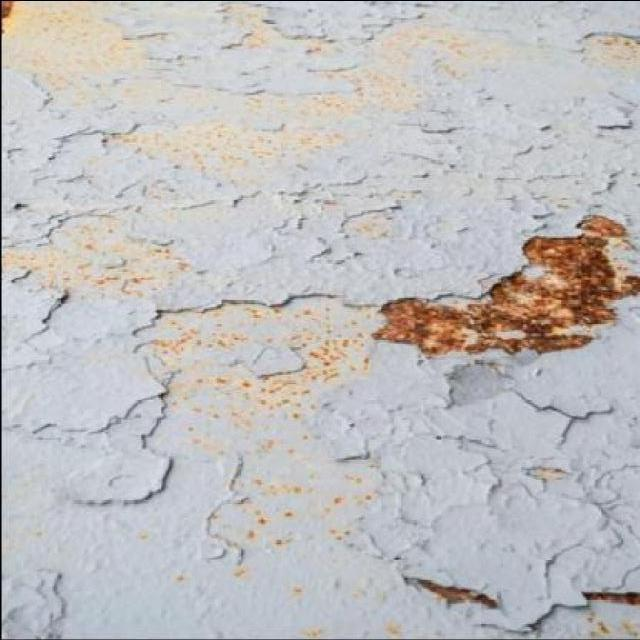Uniform Corrosion: (376, 216, 639, 355)
